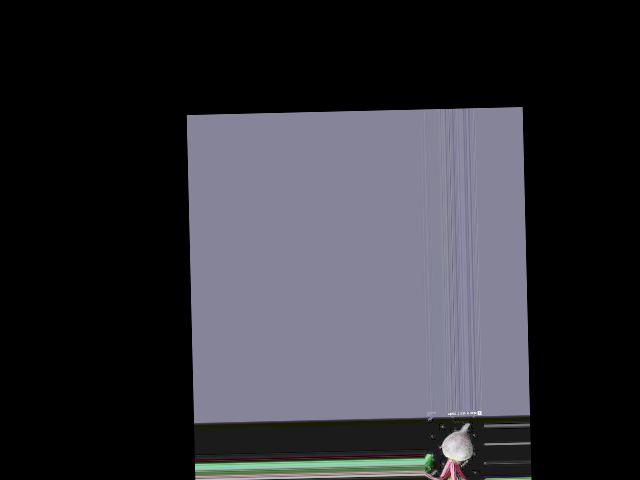beet: (423, 422, 486, 480)
